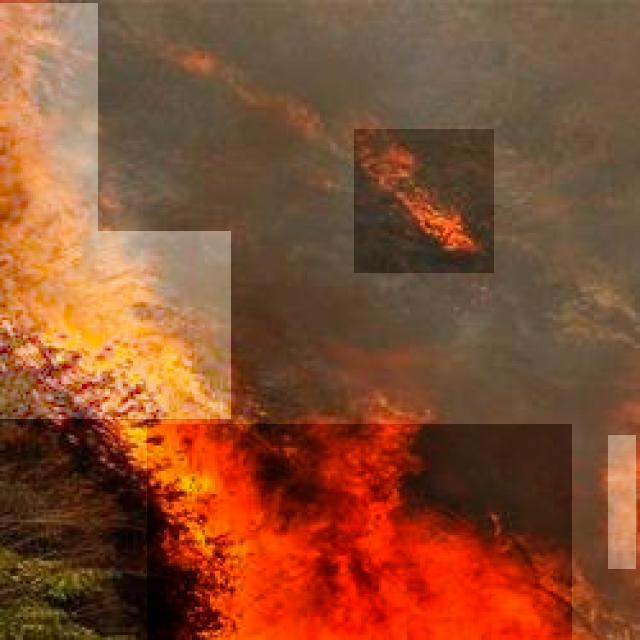Fire: (147, 424, 572, 640), (0, 231, 231, 419), (0, 3, 98, 235), (354, 129, 494, 273), (608, 435, 636, 569)
